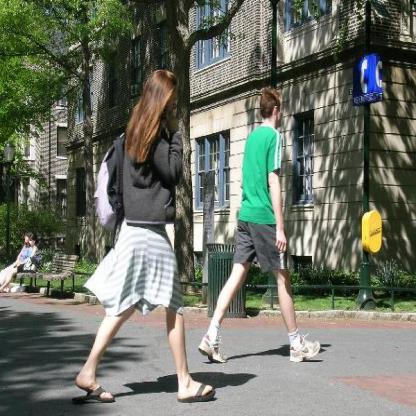person: (70, 70, 213, 401), (203, 87, 324, 363)
